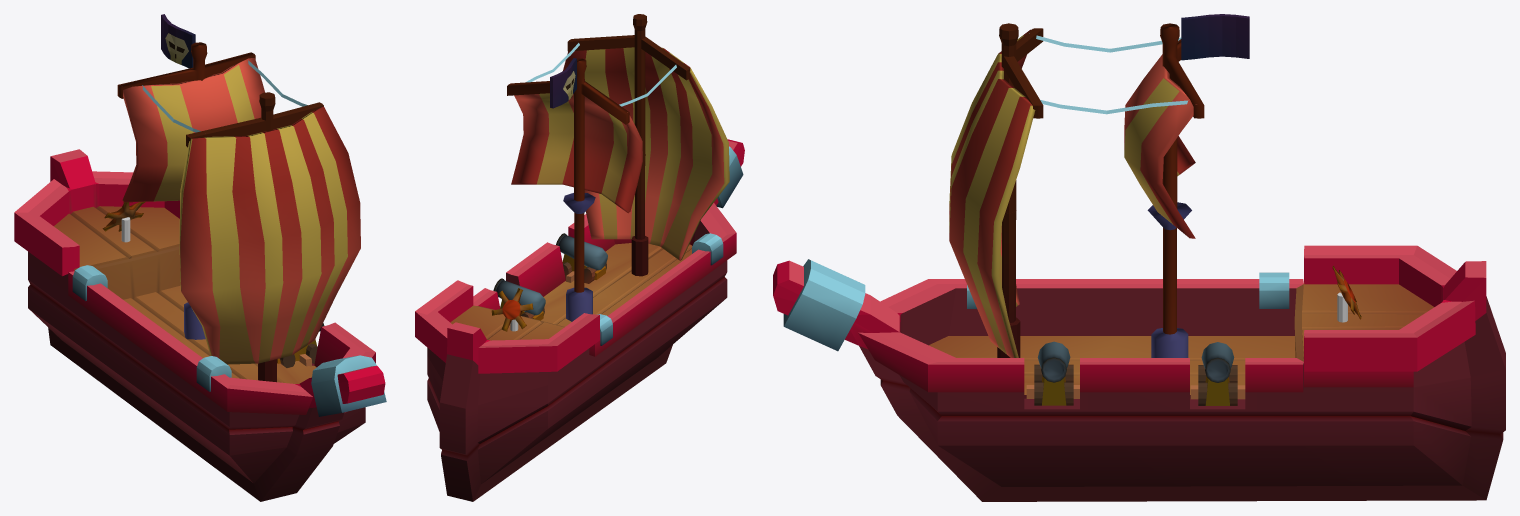
The model's file is карабль.fbx.
3 renders of one model, left to right at view 1: azimuth 30°, elevation 25°; view 2: azimuth 150°, elevation 25°; view 3: azimuth 270°, elevation 25°, orthographic. The views are drawn at different scales.
Visible parts, largest first — view 1: Cylinder.037; view 2: Cylinder.037; view 3: Cylinder.037.
Boxes of the visible parts, bbox=[...] form: Cylinder.037: bbox=[14, 14, 386, 501]; Cylinder.037: bbox=[415, 14, 744, 501]; Cylinder.037: bbox=[773, 14, 1505, 501].
Bounding box in the file's own units: 532 × 1134 × 1592.
